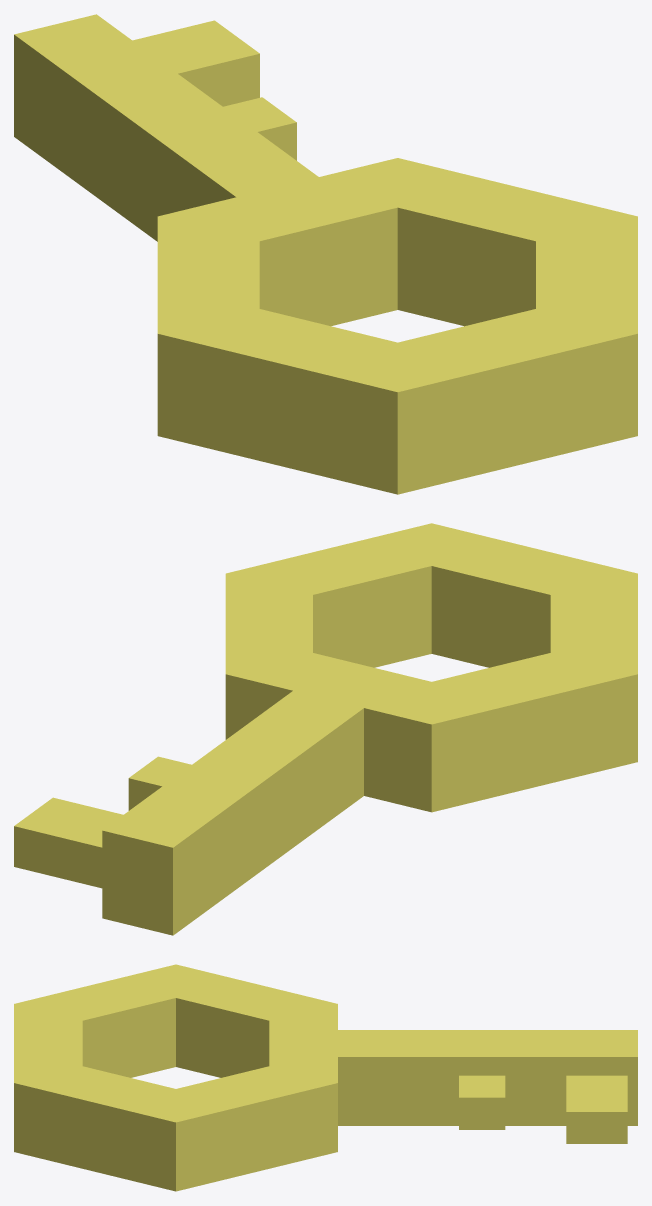
File: cle.fbx
3 views of the same model, one above another, from view 1: azimuth 30°, elevation 25°; view 2: azimuth 150°, elevation 25°; view 3: azimuth 270°, elevation 25° (orthographic). The views are drawn at different scales.
Parts seen in each view (by area): view 1: Cylinder.037; view 2: Cylinder.037; view 3: Cylinder.037.
Part boxes in pixels (x1,y1,x2,y2): Cylinder.037: (14, 14, 637, 494); Cylinder.037: (14, 523, 637, 935); Cylinder.037: (14, 964, 637, 1191).
Size of the model in its own units: 12.55 by 2.55 by 20.92.
